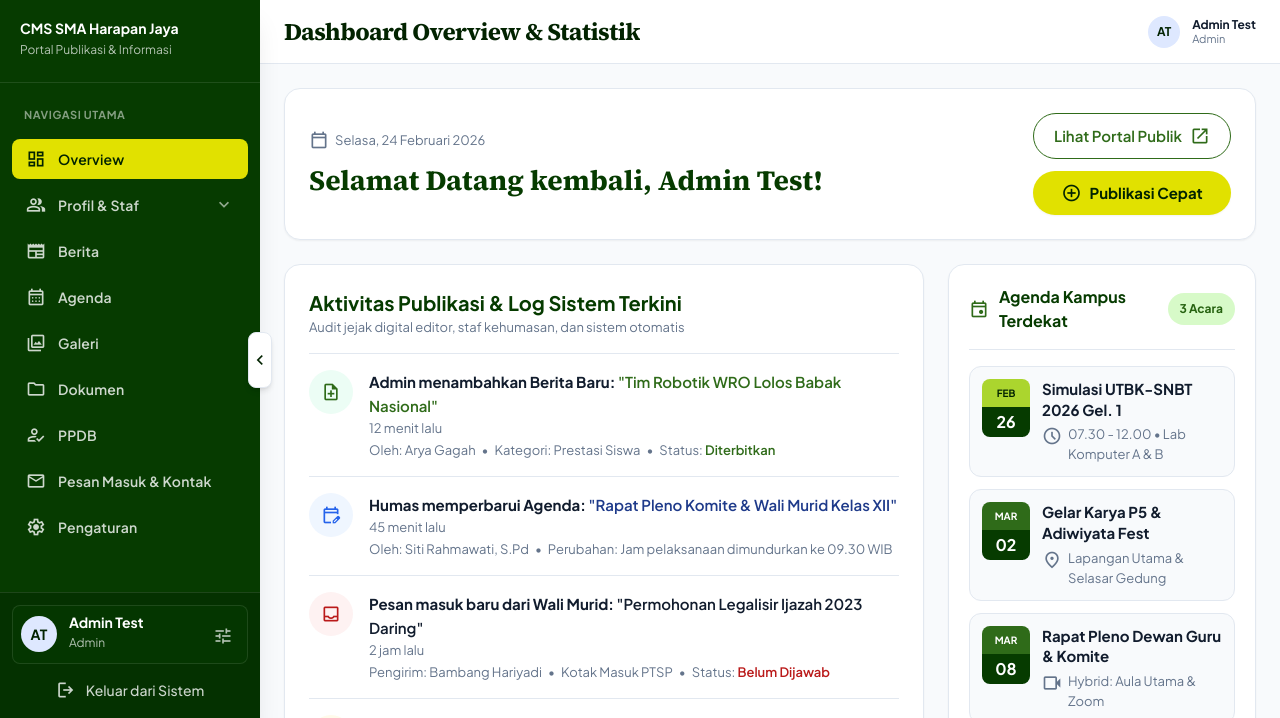
Scenario: Admin · Overview Dashboard › Publikasi Cepat membuka halaman Tambah Berita
This screenshot has width=1280, height=718.
Click the link "Publikasi Cepat" at (1132, 193), box [1033,171,1231,215]
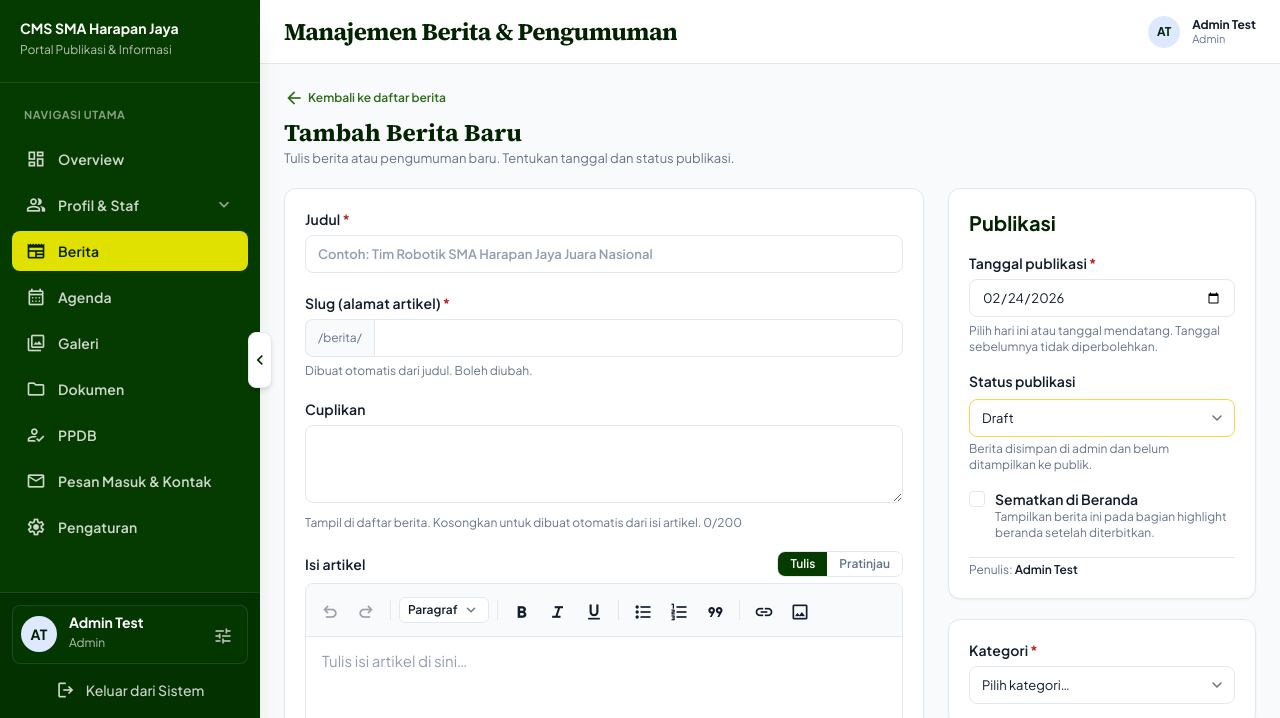
Expected: the heading "Tambah Berita Baru" is shown, [284,116,522,149]
